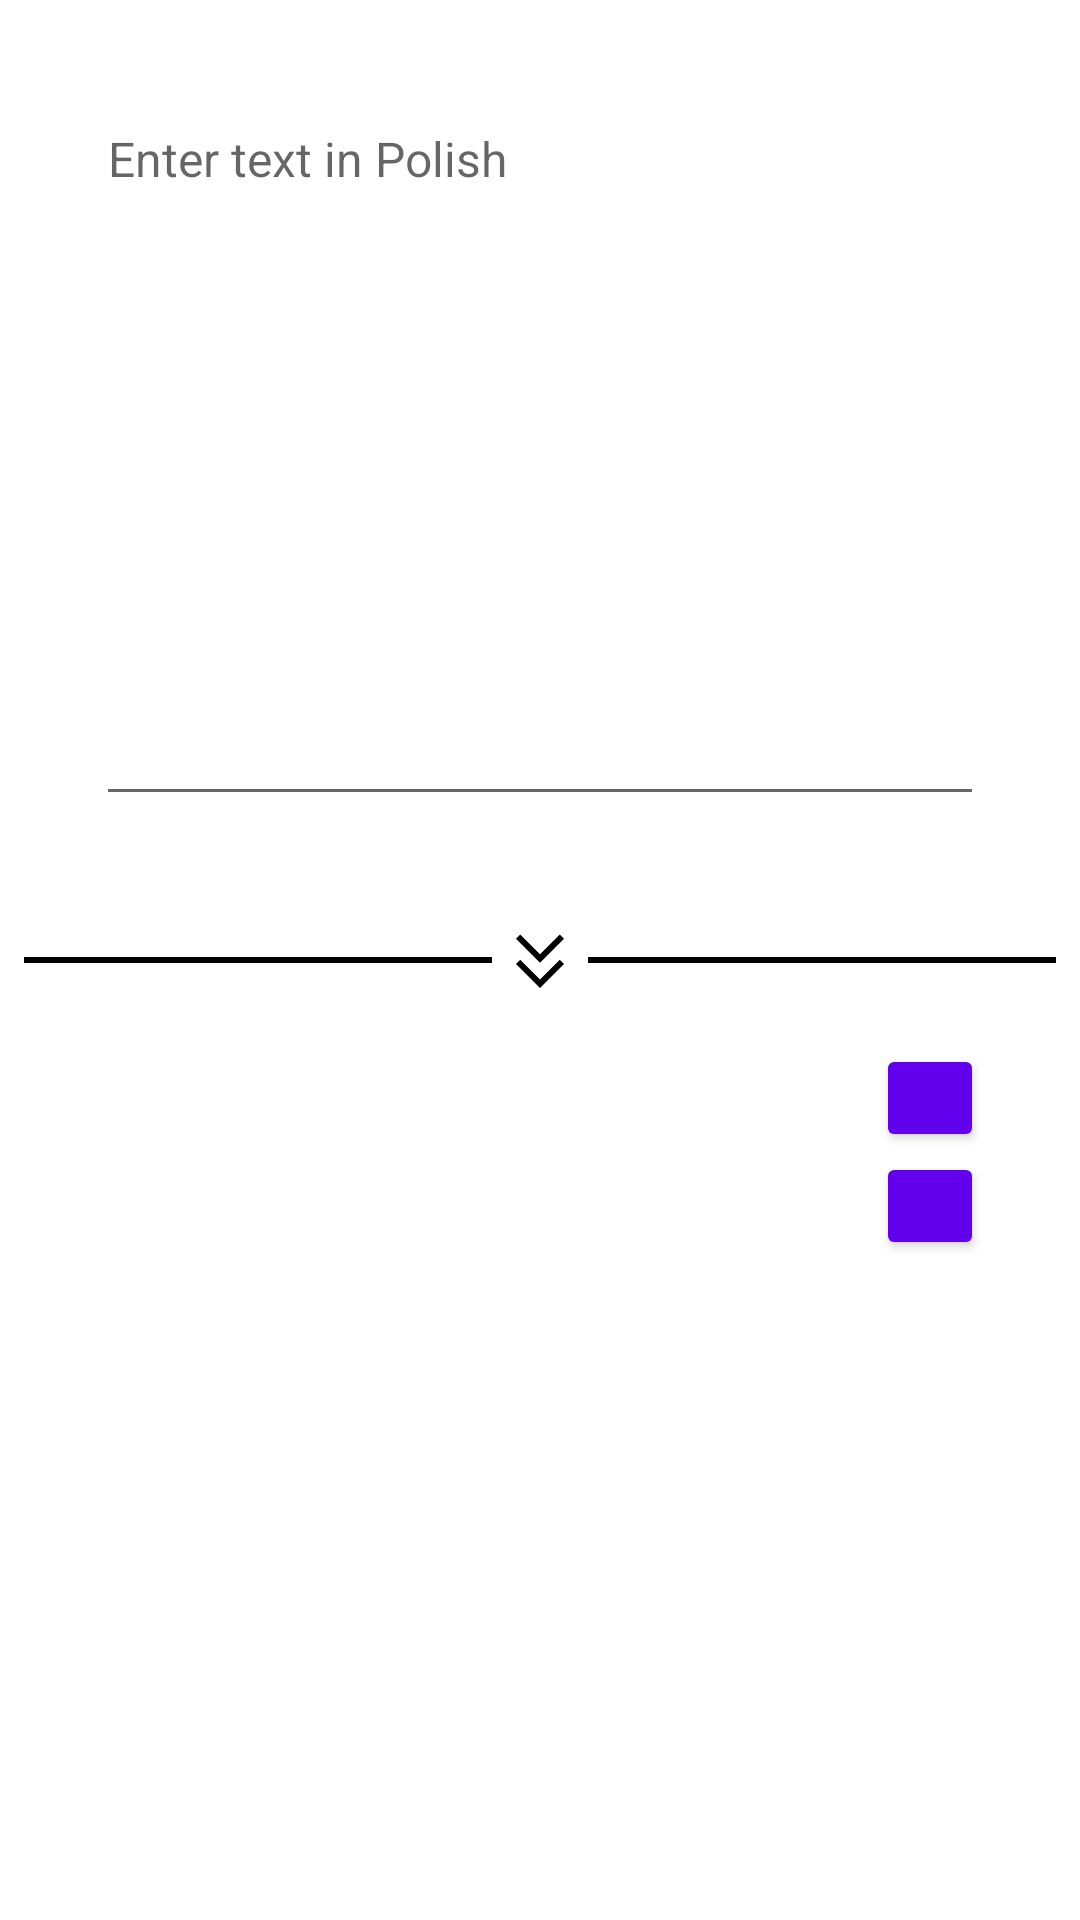

Screen size 1080 × 1920. Icon name, then its box in pixels as (x1,y1,x2,y2):
keyboard double arrow down: (516,934,564,988)
